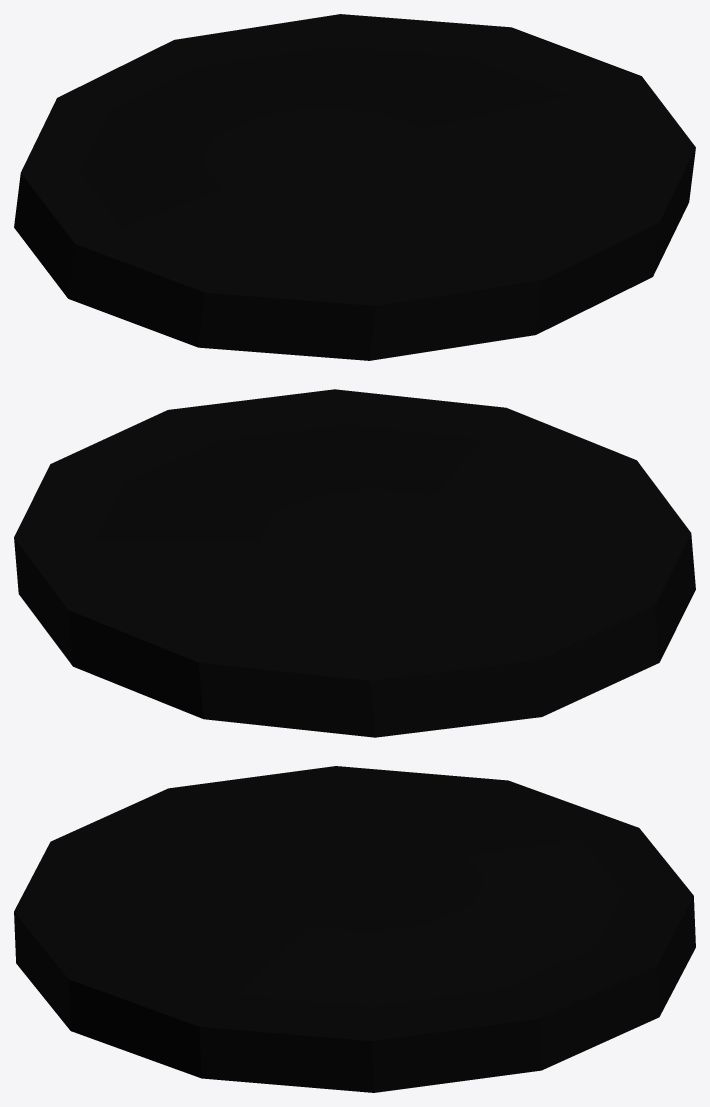
Rendered from Tapa_Baura.fbx.
3 views of the same model, one above another, from view 1: azimuth 30°, elevation 25°; view 2: azimuth 150°, elevation 25°; view 3: azimuth 270°, elevation 25° (orthographic).
Visible parts, largest first — view 1: Tapa_Basura; view 2: Tapa_Basura; view 3: Tapa_Basura.
Part boxes in pixels (left/top/right/bottom): Tapa_Basura: left=14, top=14, right=695, bottom=360; Tapa_Basura: left=14, top=389, right=695, bottom=737; Tapa_Basura: left=14, top=766, right=695, bottom=1092.
Bounding box in the file's own units: 2.19 × 0.2404 × 2.18.
